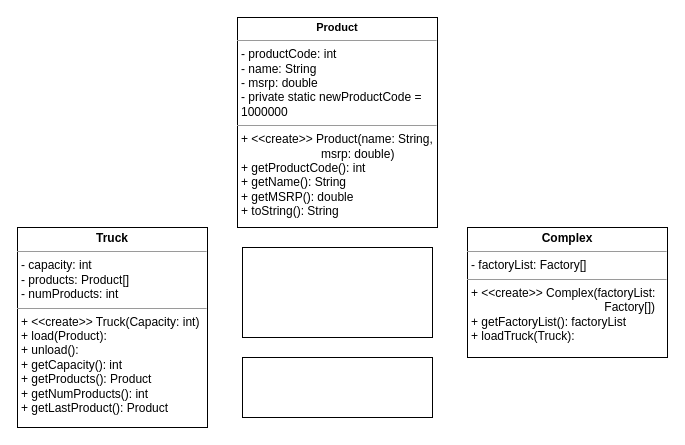
Some shapes in this 685 by 445 pixel diagram are drawn without their labels. The shapes that lost their labels are listed below. From the top down, each one's box as (x1, y1, x2, y2) in pixels, then its label:
(242, 246, 432, 338): <interface> Factory + <<abstract>> manufactureProduct():
(242, 356, 432, 418): Main + Main():
